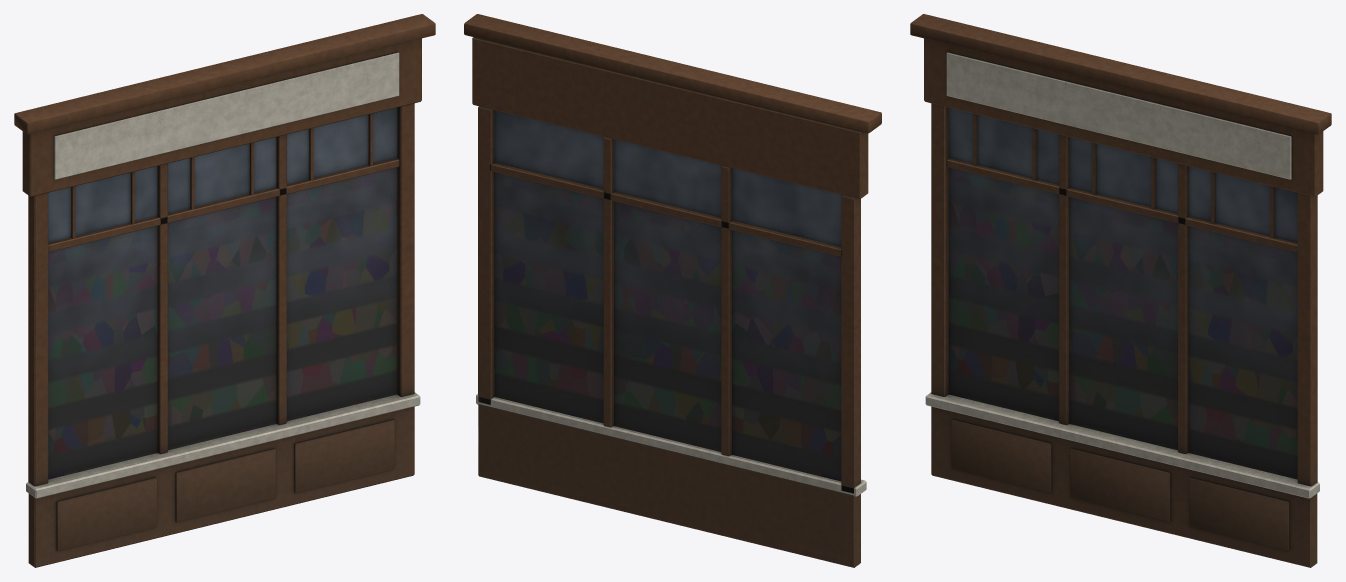
File: shop_town_30_brown.glb
3 renders of one model, left to right at view 1: azimuth 30°, elevation 25°; view 2: azimuth 150°, elevation 25°; view 3: azimuth 330°, elevation 25°, orthographic.
Parts seen in each view (by area): view 1: shop_town_30_brown; view 2: shop_town_30_brown; view 3: shop_town_30_brown.
Part boxes in pixels (box(x1,y1,x2,y2)): shop_town_30_brown: box(14, 14, 435, 567); shop_town_30_brown: box(464, 14, 881, 567); shop_town_30_brown: box(910, 14, 1331, 567).
Size of the model in its own units: 3.44 by 3.65 by 0.2.
Materials: 1 (1 with a texture image).
